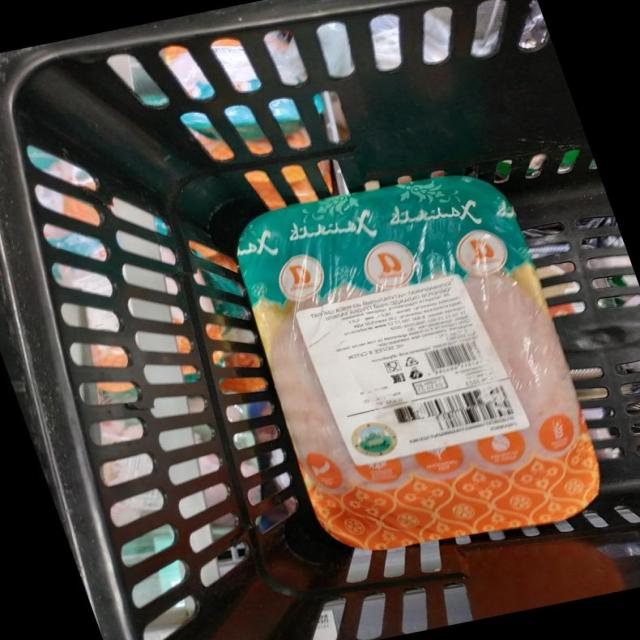Meat: (238, 175, 599, 549)
